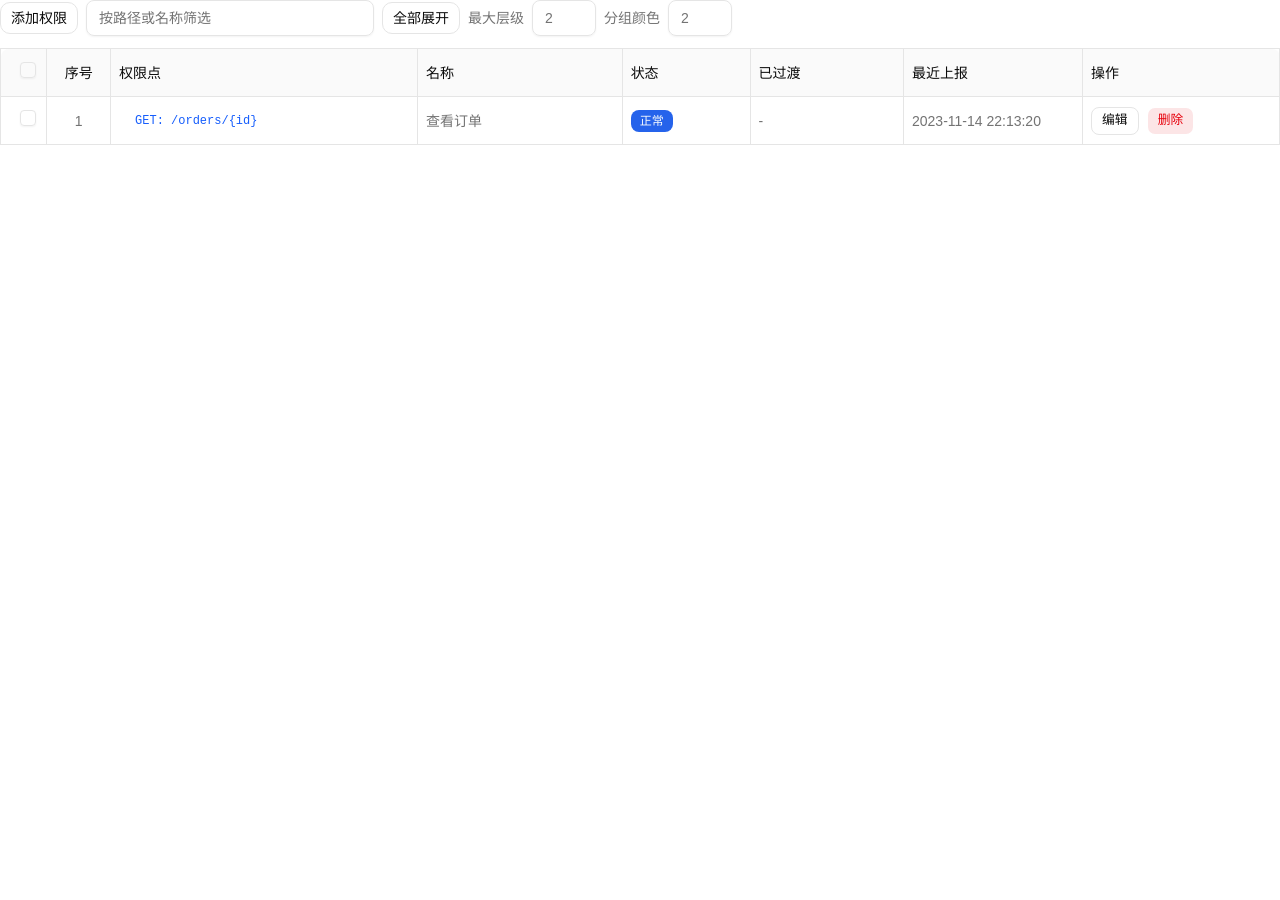
it: 删除前先查持有者，并在确认框里点名
Click the button "删除".
click(1170, 120)  # box [1147,106,1194,134]
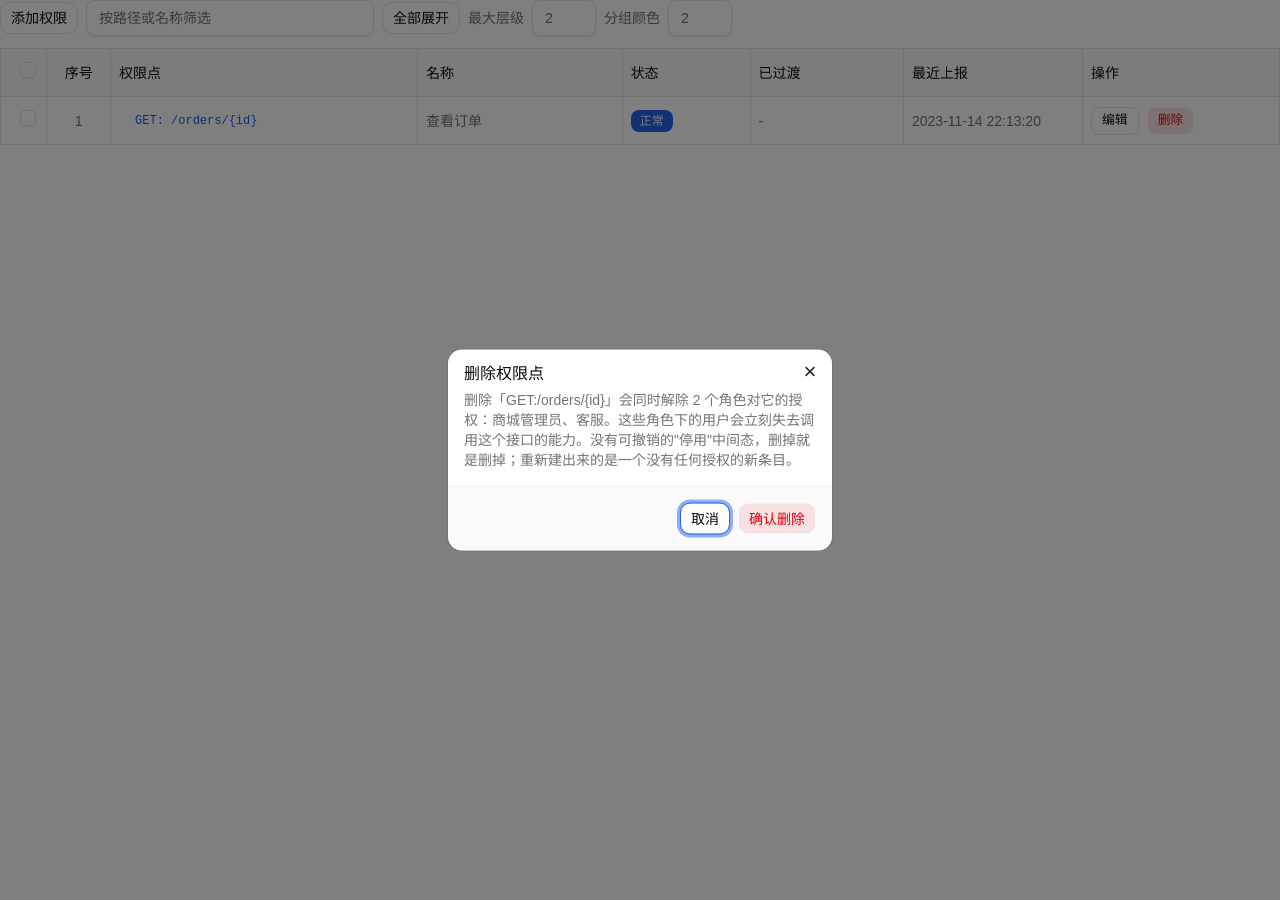
Now the text "2 个角色" is shown, box [464,392,814,468]
